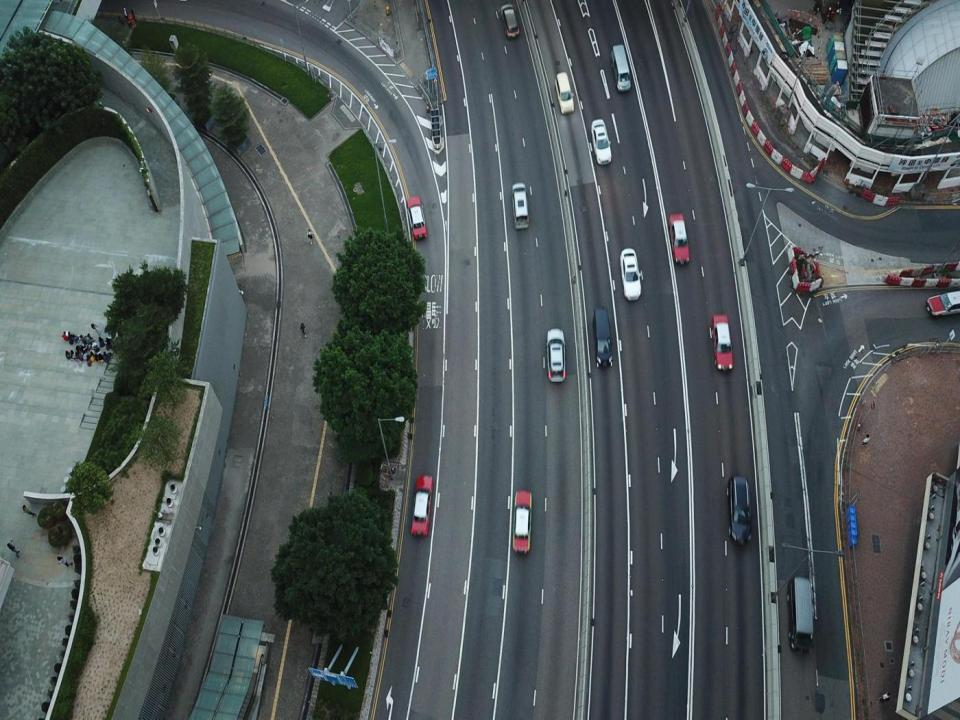car: (724, 470, 754, 546), (410, 475, 434, 540), (512, 487, 532, 559), (712, 312, 734, 376), (619, 246, 643, 302), (667, 214, 691, 267), (545, 326, 566, 385), (589, 116, 613, 166), (404, 195, 426, 241), (510, 183, 531, 230), (498, 3, 522, 43), (924, 291, 960, 317), (554, 70, 575, 114)
van: (787, 573, 816, 655), (590, 306, 614, 371), (611, 40, 634, 97)
